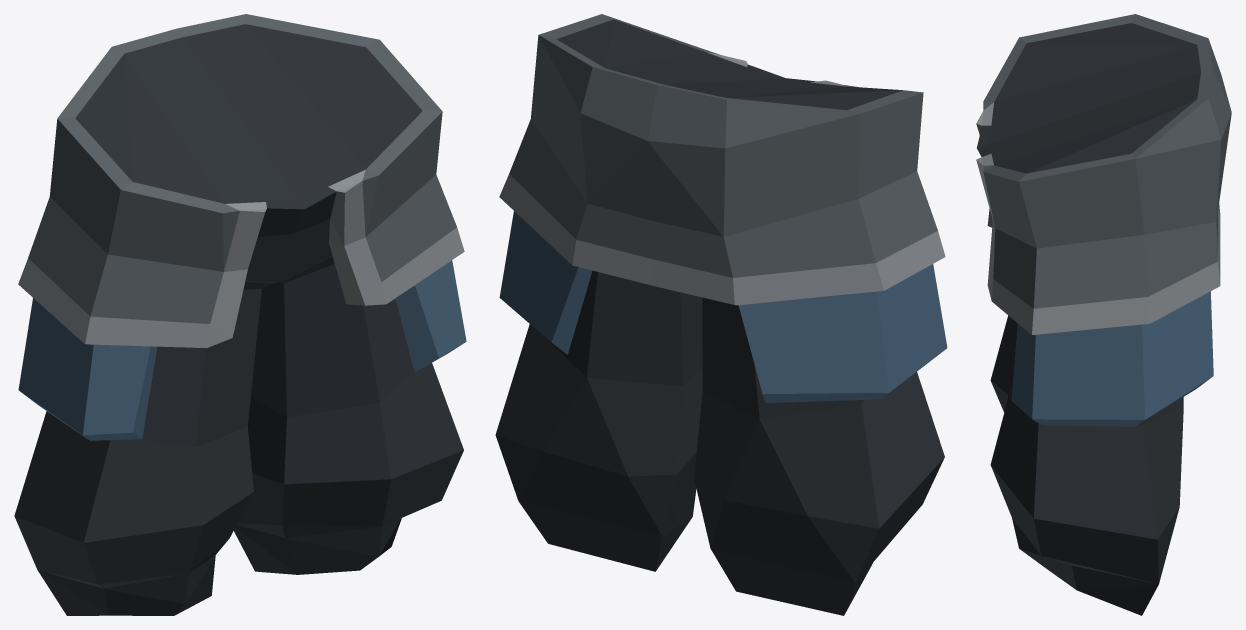
Rendered from Chr_Hips_Female_11_Static.fbx.
3 views of the same model, side by side, from view 1: azimuth 30°, elevation 25°; view 2: azimuth 150°, elevation 25°; view 3: azimuth 270°, elevation 25° (orthographic). The views are drawn at different scales.
Visible parts, largest first — view 1: Chr_Hips_Female_11_Static; view 2: Chr_Hips_Female_11_Static; view 3: Chr_Hips_Female_11_Static.
Part boxes in pixels (x1=…): Chr_Hips_Female_11_Static: x1=14, y1=14, x2=466, y2=615; Chr_Hips_Female_11_Static: x1=495, y1=14, x2=947, y2=615; Chr_Hips_Female_11_Static: x1=976, y1=14, x2=1231, y2=615.
Size of the model in its own units: 0.4512 by 0.5806 by 0.2786.
